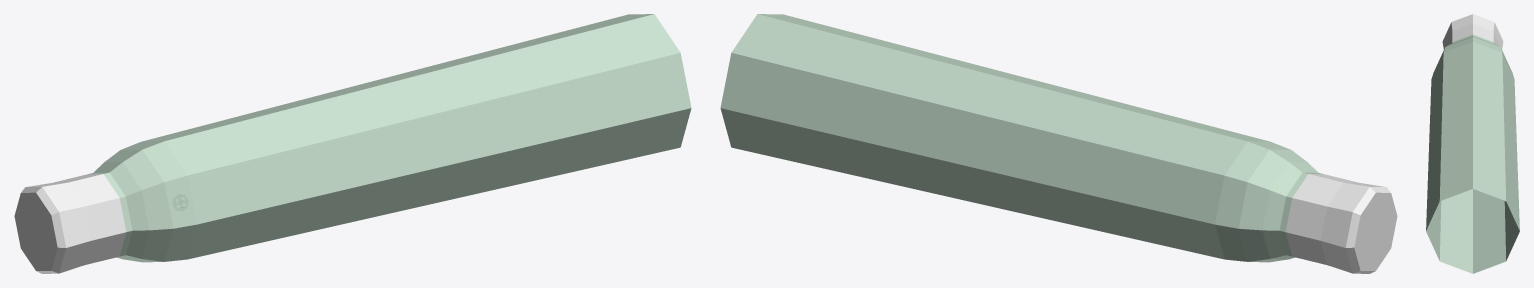
The model's file is ConscriptJacket.fbx.
3 renders of one model, left to right at view 1: azimuth 30°, elevation 25°; view 2: azimuth 150°, elevation 25°; view 3: azimuth 270°, elevation 25°, orthographic. The views are drawn at different scales.
Visible parts, largest first — view 1: ConscriptJacket; view 2: ConscriptJacket; view 3: ConscriptJacket.
Part boxes in pixels (x1,y1,x2,y2): ConscriptJacket: (14,14,691,273); ConscriptJacket: (720,14,1397,273); ConscriptJacket: (1426,14,1519,273).
Bounding box in the file's own units: 1.01 × 0.209 × 0.209.
